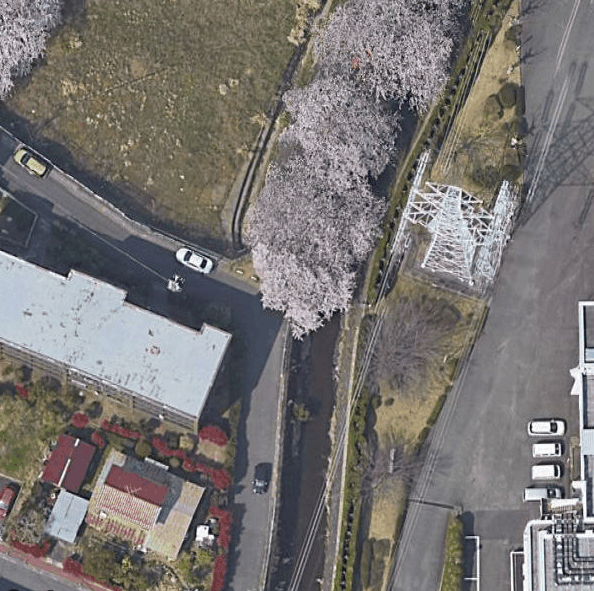flatroof: (2, 250, 248, 428)
